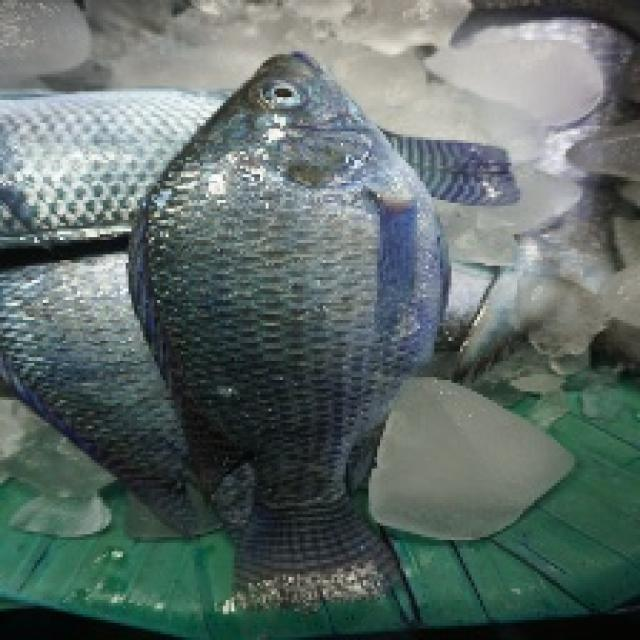Fresh: (131, 46, 462, 450)
